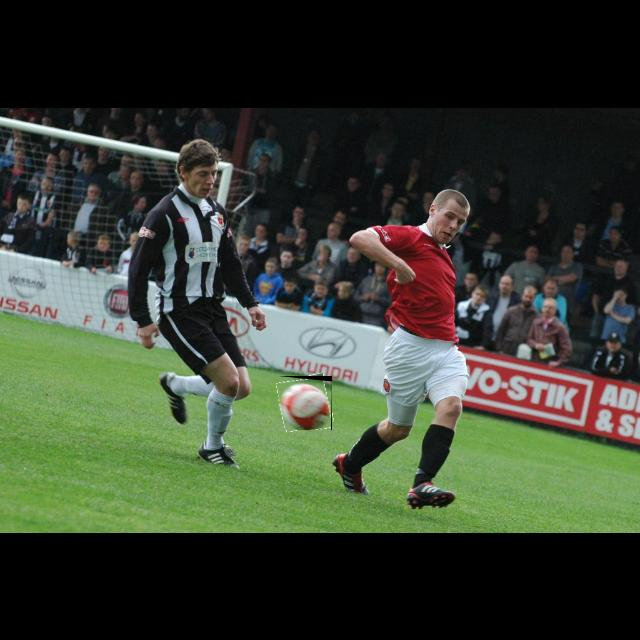Football: (278, 376, 332, 430)
